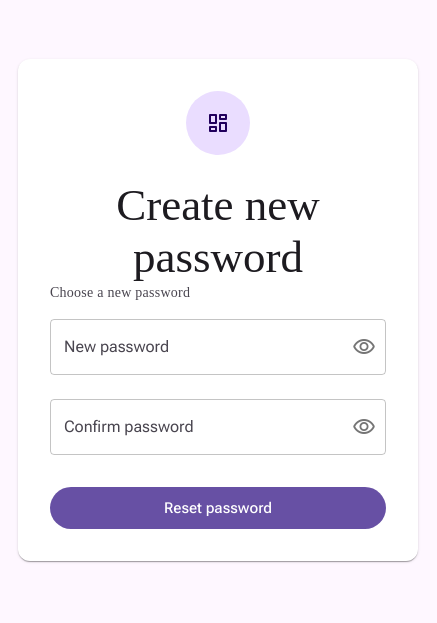
Test: ResetPasswordPage › validates password strength and matching confirmation
In the password field labelled "New password": (193, 347) [50, 319, 336, 375], type "short1"
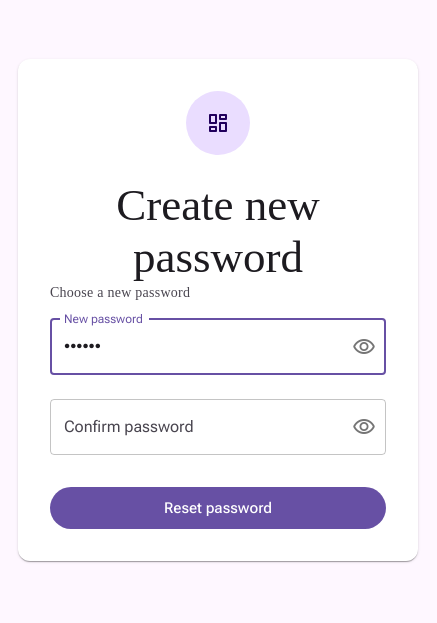
In the password field labelled "Confirm password": (193, 427) [50, 399, 336, 455], type "different1"
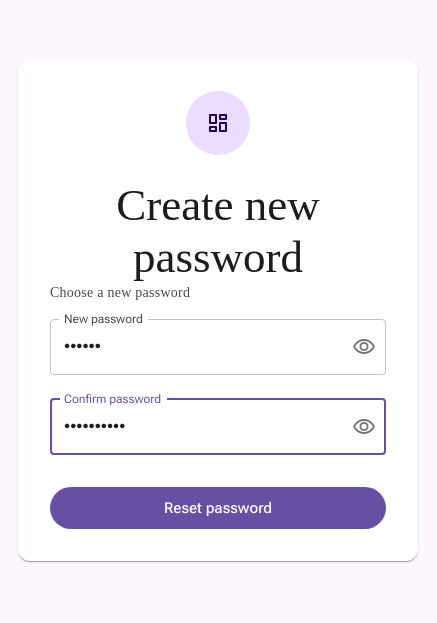
Click the button "Reset password": (218, 508) [50, 487, 386, 529]
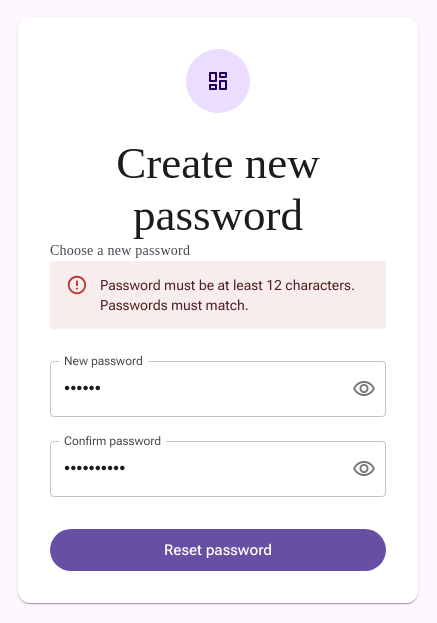
Check: the text "Password must be at least 12 characters." is shown, box [100, 275, 355, 295]
Check: the text "Passwords must match." is shown, box [100, 297, 249, 313]
